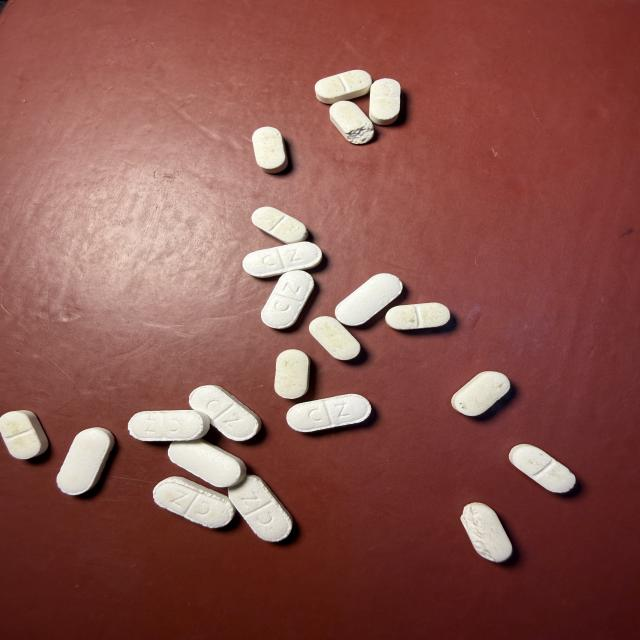pill: (229, 475, 292, 542), (153, 477, 235, 528), (189, 386, 261, 441), (57, 428, 114, 495), (169, 439, 246, 487), (336, 274, 402, 326), (509, 444, 575, 493), (287, 394, 371, 432), (261, 271, 314, 329), (461, 503, 512, 562), (243, 242, 322, 277), (452, 372, 510, 416), (129, 410, 209, 441), (0, 410, 48, 459), (309, 317, 360, 360), (252, 207, 307, 243), (315, 70, 371, 104), (330, 101, 373, 144), (385, 303, 450, 330), (275, 350, 309, 399), (253, 127, 288, 173), (369, 79, 400, 125)
